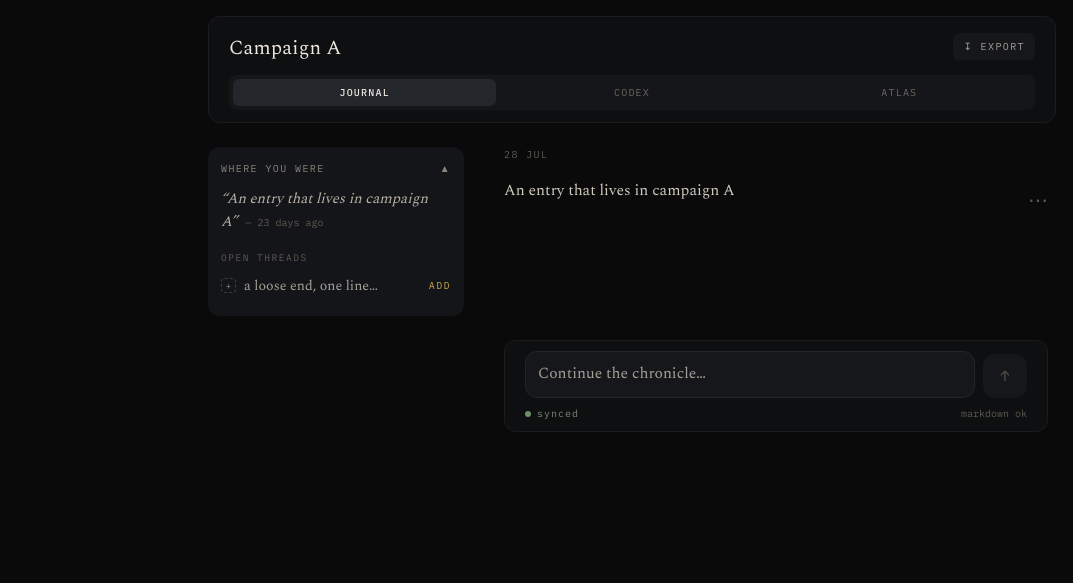
Campaign selection and creation panel › switching campaigns swaps the river and threads to the newly selected campaign
Check: the text "An entry that lives in campaign A" is shown, box 504,179 -> 735,202
Click the button "Campaign A": (285, 48) 229,33 -> 341,63
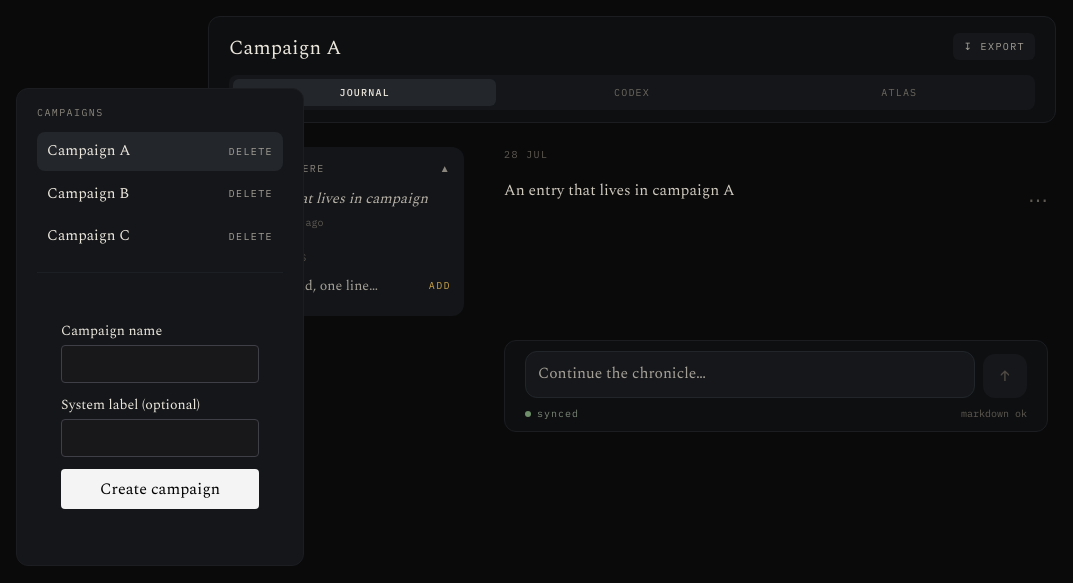
Click the button "Campaign C": (134, 236) 47,225 -> 221,248
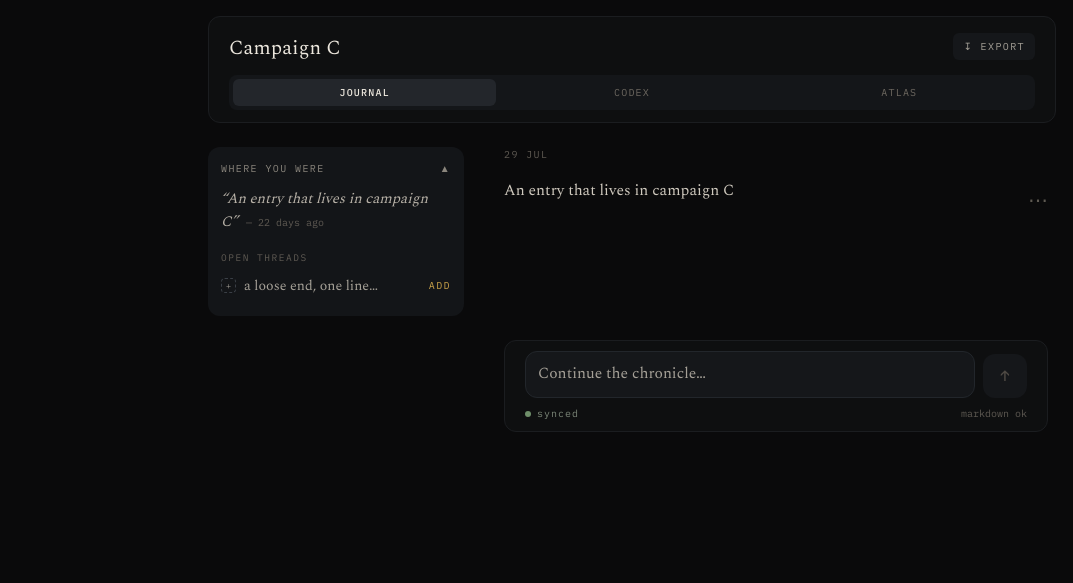
Check: the text "An entry that lives in campaign C" is shown, box 504,179 -> 734,202
Check: the text "An entry that lives in campaign A" is gone
